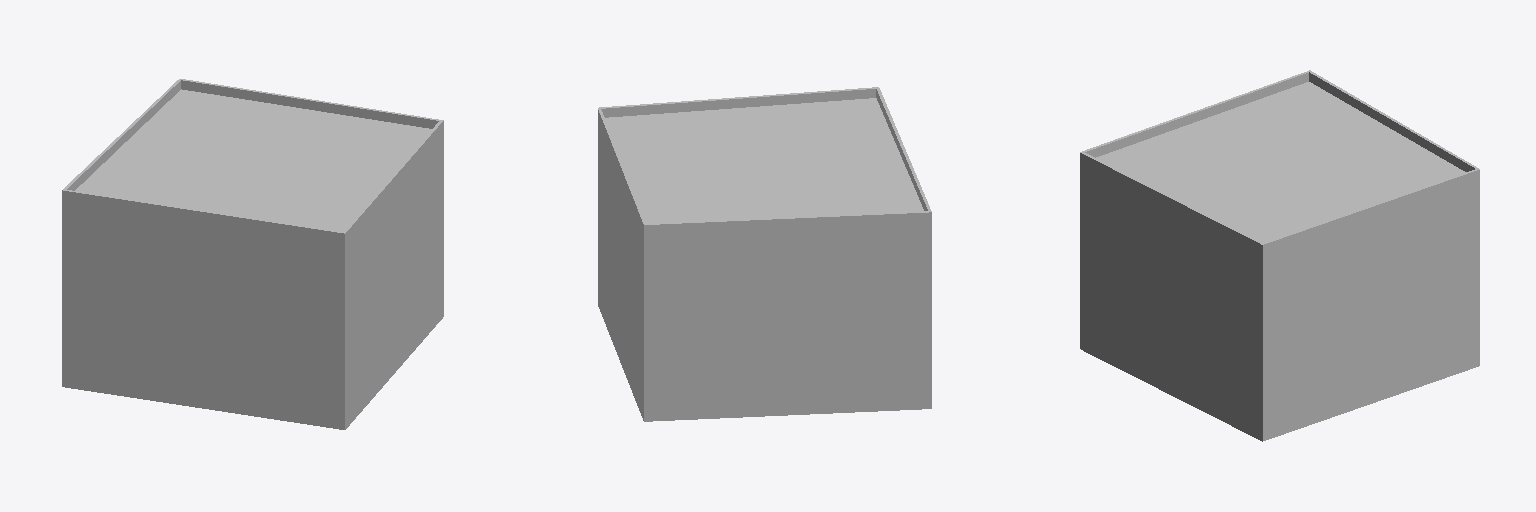
The model's file is office_10.obj.
3 renders of one model, left to right at view 1: azimuth 30°, elevation 25°; view 2: azimuth 150°, elevation 25°; view 3: azimuth 270°, elevation 25°, orthographic.
Parts seen in each view (by area): view 1: object_1; view 2: object_1; view 3: object_1.
Boxes of the visible parts, box(x1,y1,x2,y2) form: object_1: box(62, 79, 443, 429); object_1: box(598, 87, 931, 421); object_1: box(1080, 70, 1479, 441).
Bounding box in the file's own units: 122 × 64 × 118.